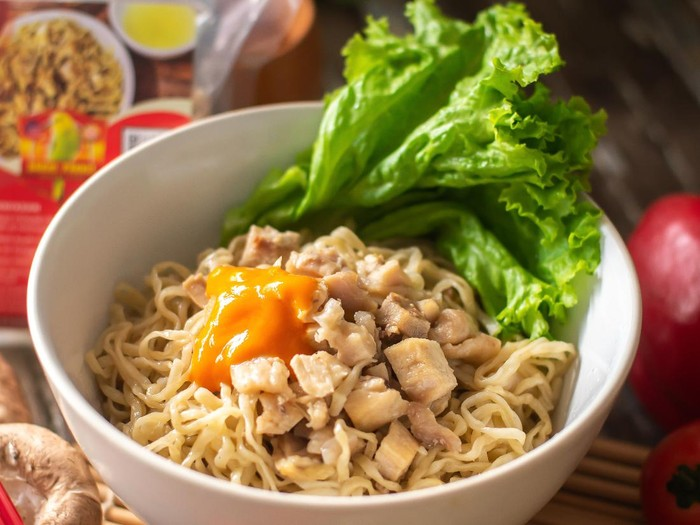Mie: (129, 230, 552, 480)
